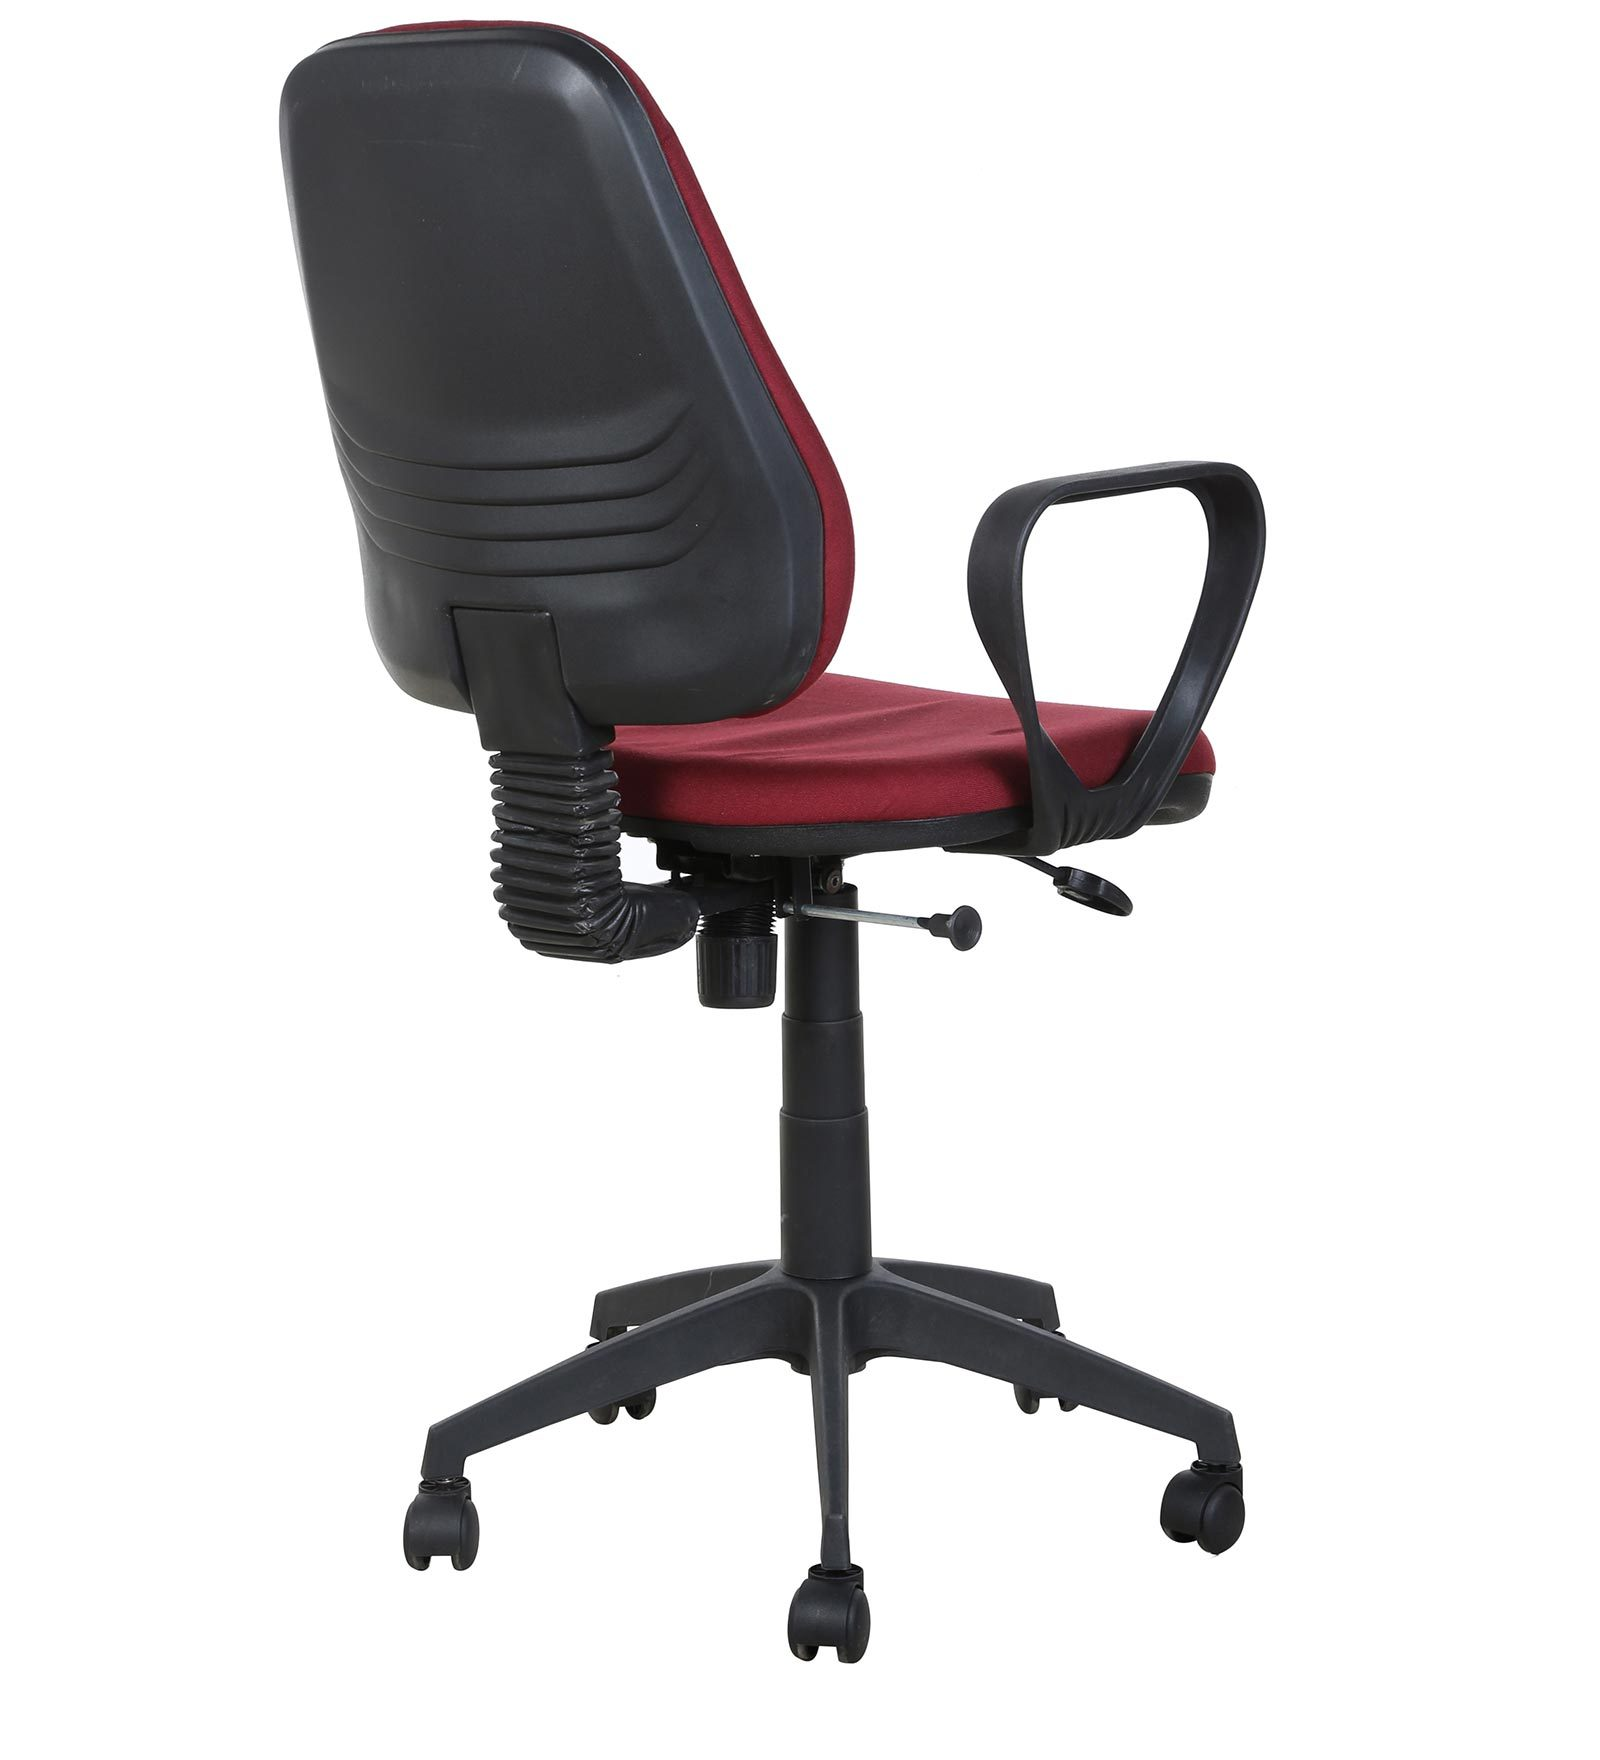Star Ergonomic Chair in Maroon Colour by Parin: (192, 31, 1329, 1666)
